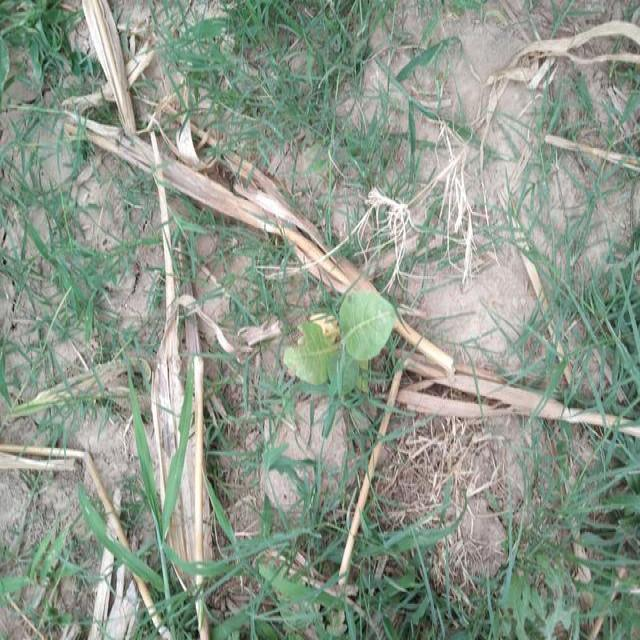crop: (278, 280, 398, 390)
